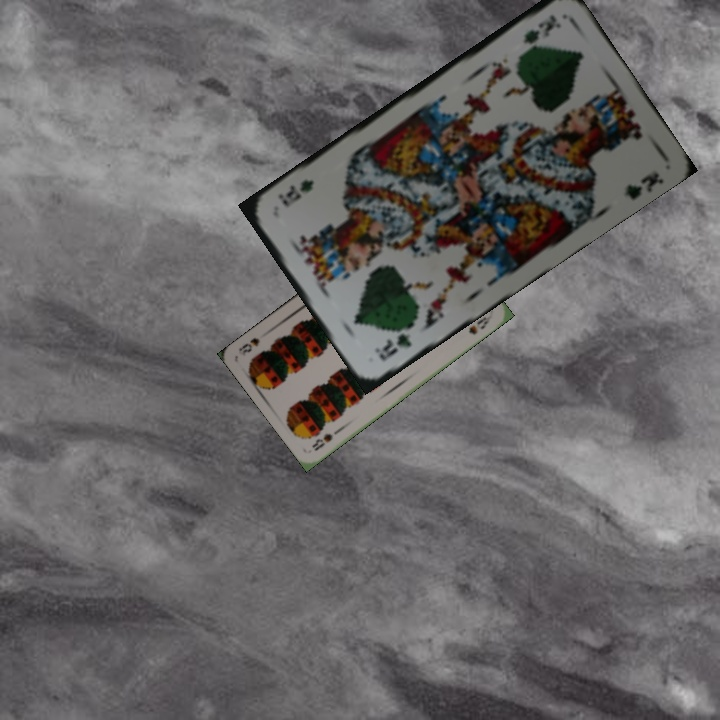GK: (519, 10, 564, 47), (370, 329, 414, 364)
S8: (308, 424, 344, 454)
